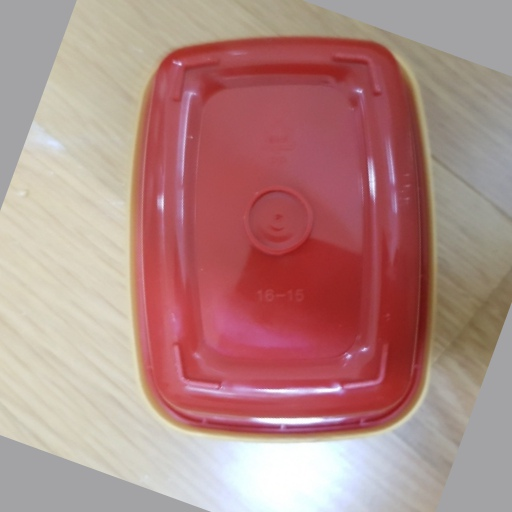Plastic_4: (130, 35, 434, 439)
